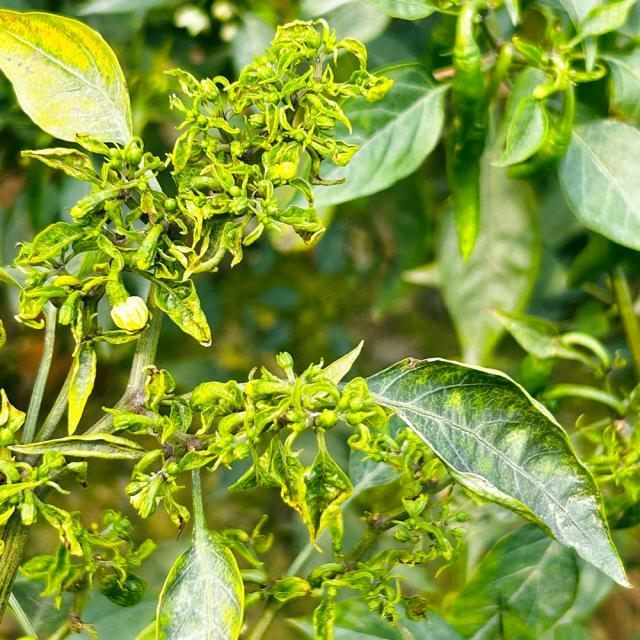Chilli_Leaf_Curl: (1, 2, 636, 638), (2, 14, 392, 437), (355, 354, 633, 590), (162, 17, 393, 272), (184, 339, 390, 553), (0, 7, 134, 148), (151, 466, 246, 639), (556, 116, 639, 252)
